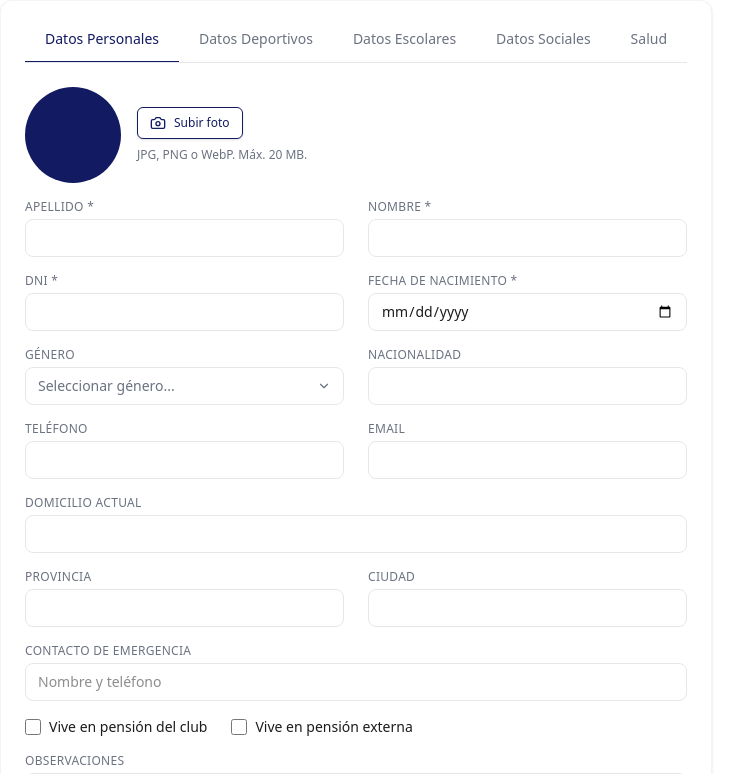
Scenario: DeportistaForm — mode=create › cambiar de pestaña y volver no borra los valores
// Write in apellido
Type "TestApellido" into the field labelled "Apellido *" at point(184, 238), box [25,219,344,257]
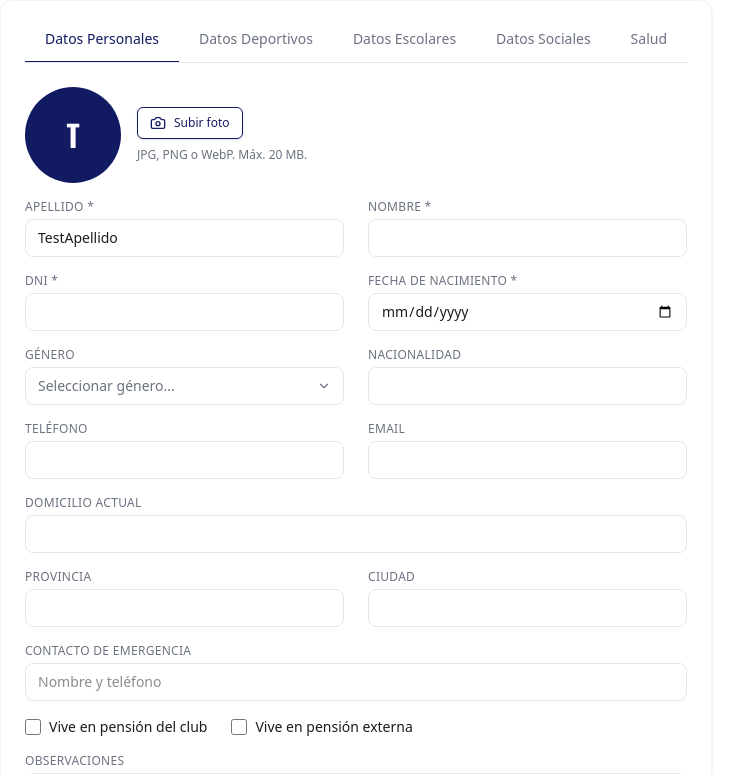
// Switch to Deportivo and back
Click the tab "Datos Deportivos" at point(256, 40), box [179,17,333,63]
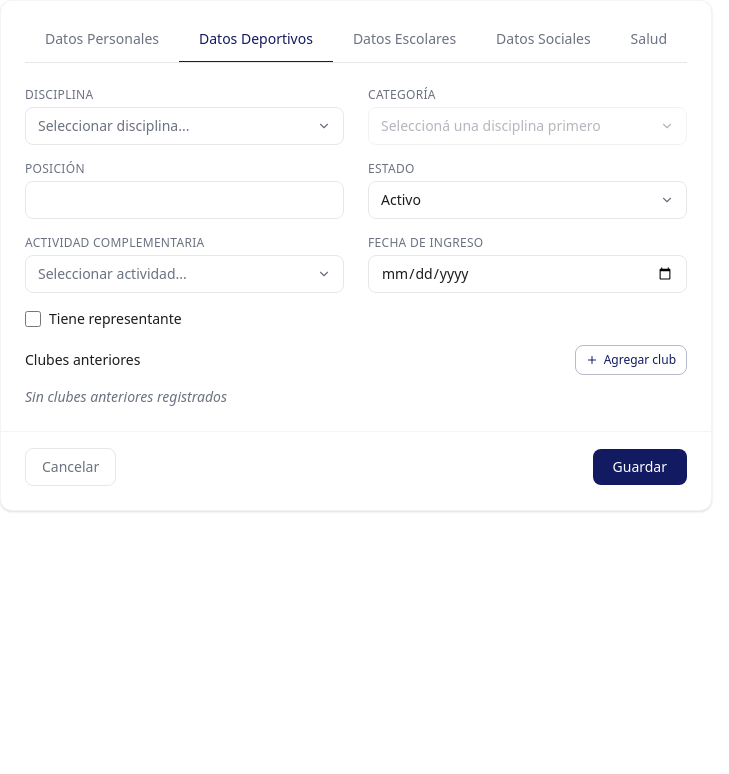
Click the tab "Datos Personales" at point(102, 40), box [25,17,179,63]
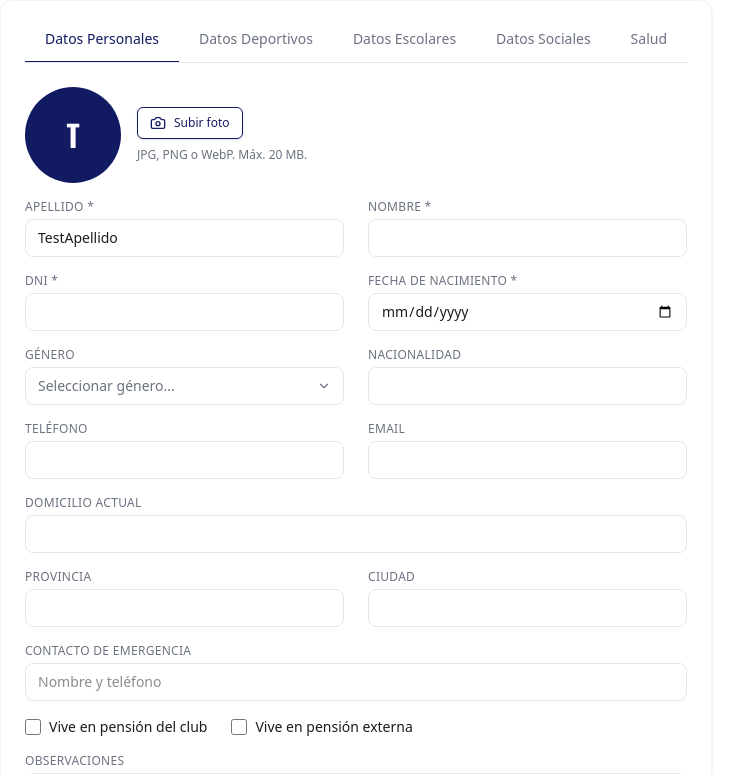
Now the field showing "TestApellido" is shown, box [25,219,344,257]
